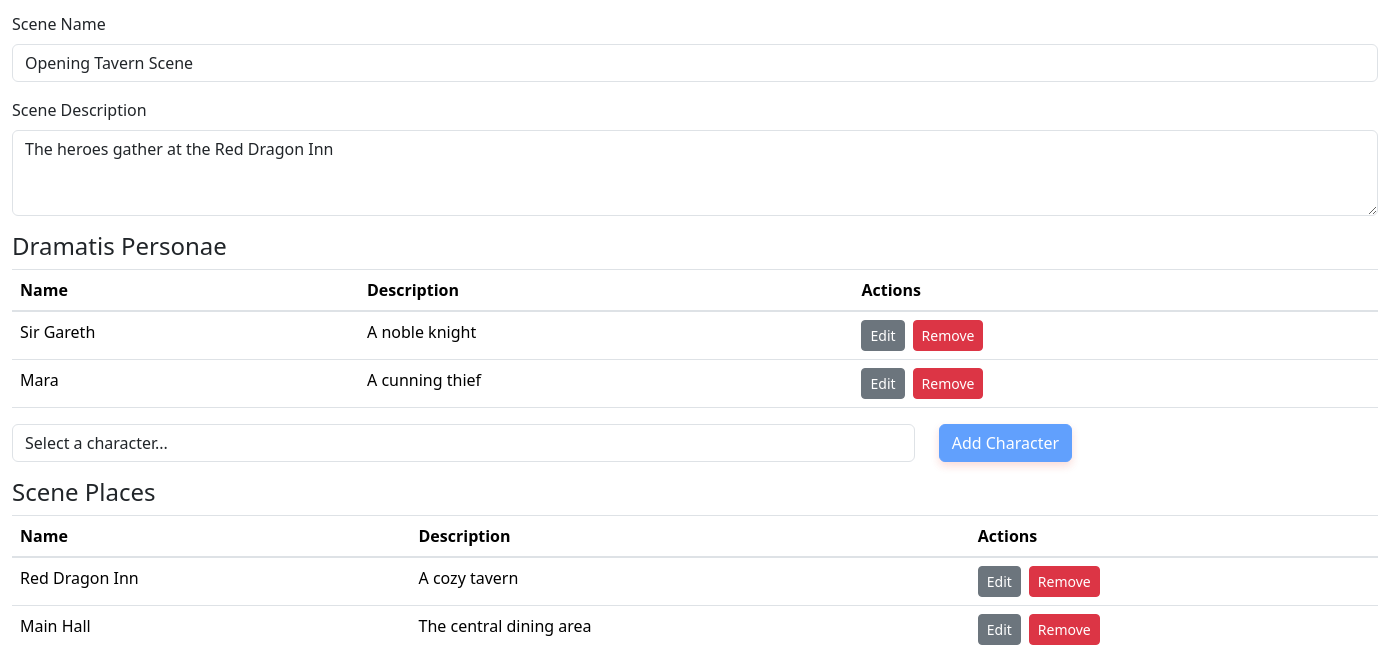
Test: SceneEditor › validation › should prevent adding duplicate characters
Select "Sir Gareth" in the dropdown below "Mara" at (463, 443), box [12,424,915,462]
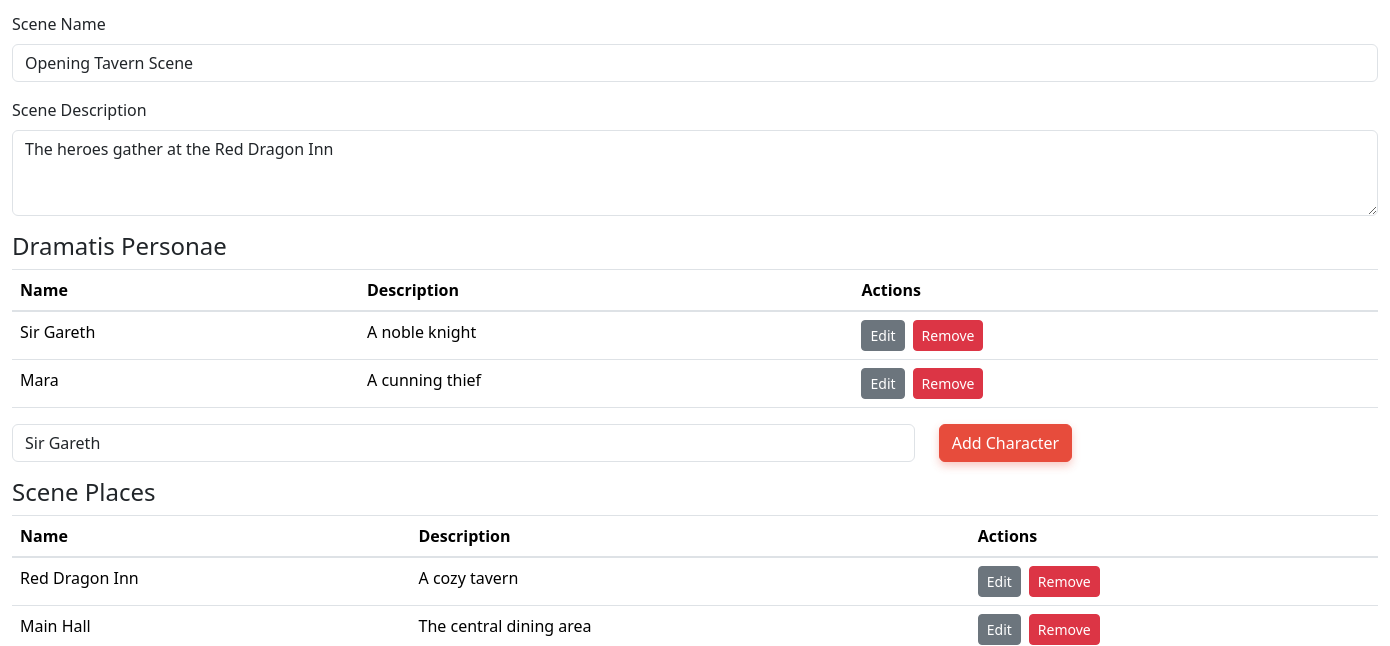
Click the button "Add Character" at (1005, 443), box [939,424,1072,462]
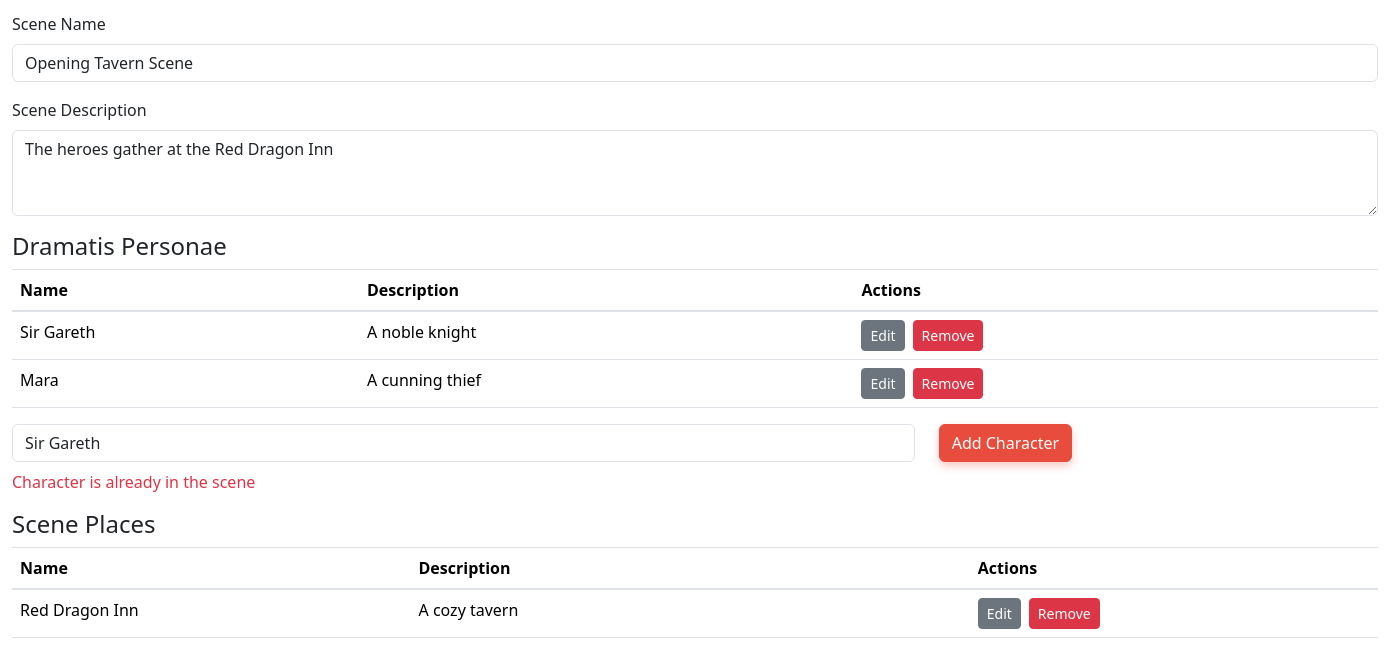
Expected: the text "Character is already in the scene" is shown, [12,471,255,493]
